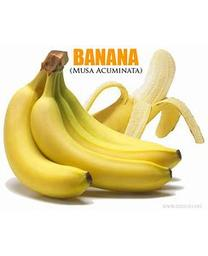banana: (1, 49, 181, 197)
